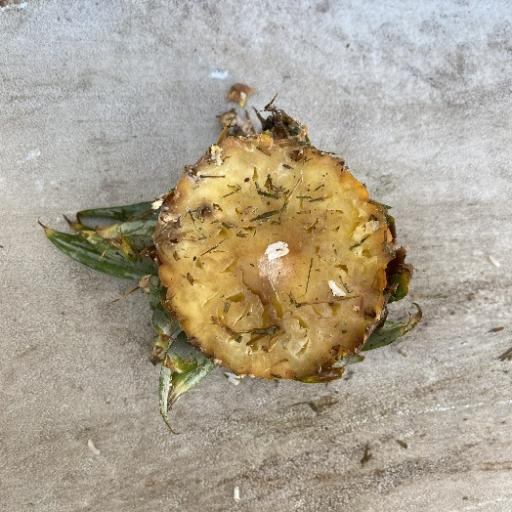Waste: (38, 83, 422, 434)
